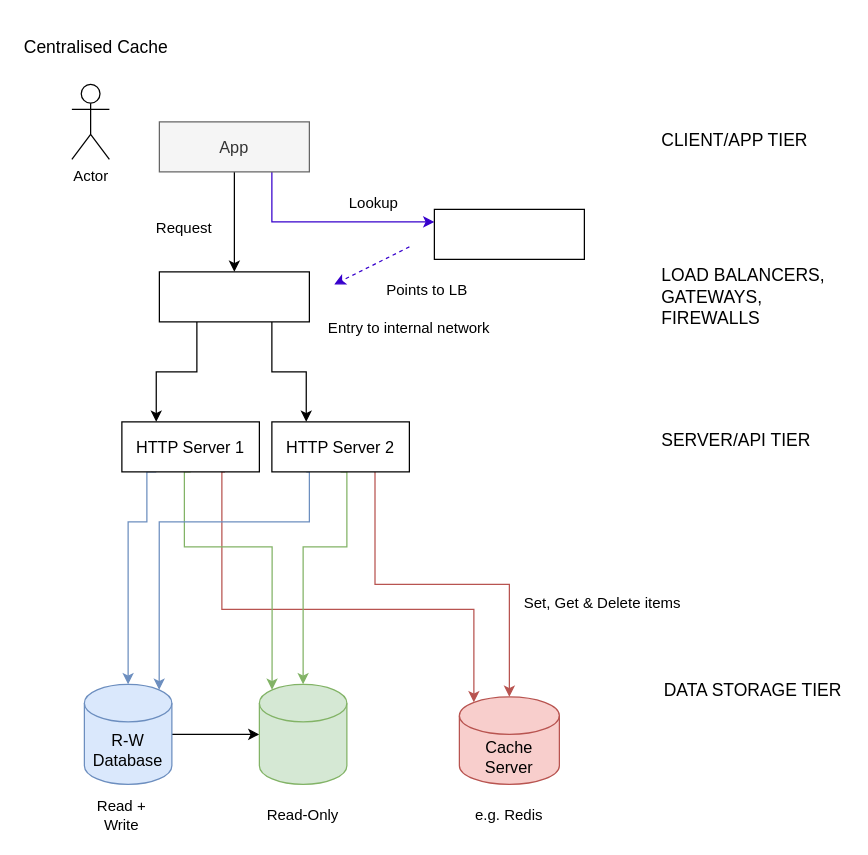
Some shapes in this 868 by 855 pixel diagram are drawn without their labels. The shapes that lost their labels are listed below. From the top down, each one's box as (x1, y1, x2, y2) in pixels, then its label:
(433, 208, 584, 259): DNS
(158, 271, 309, 322): Load Balancer
(258, 683, 347, 784): R-O Database
